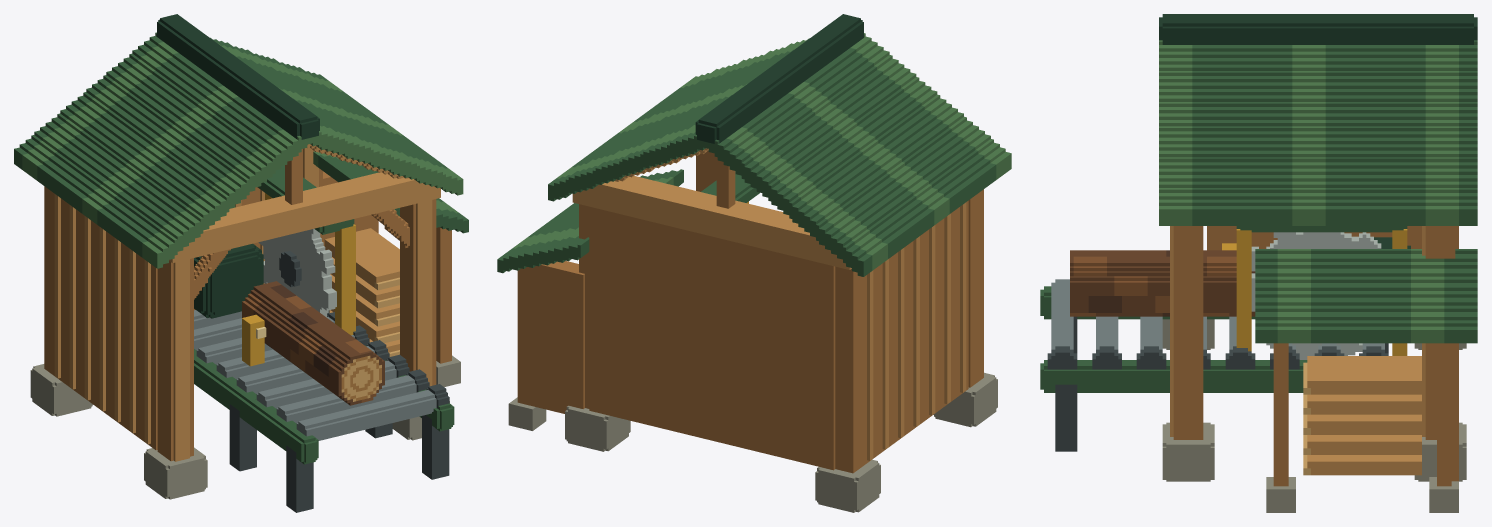
Rendered from sawmill.glb.
3 views of the same model, side by side, from view 1: azimuth 30°, elevation 25°; view 2: azimuth 150°, elevation 25°; view 3: azimuth 270°, elevation 25° (orthographic). The views are drawn at different scales.
Parts seen in each view (by area): view 1: sawmill; view 2: sawmill; view 3: sawmill.
Part boxes in pixels (x1,y1,x2,y2): sawmill: (14,14,468,512); sawmill: (497,14,1011,512); sawmill: (1040,14,1477,512).
Size of the model in its own units: 6.15 by 5.75 by 5.9.
